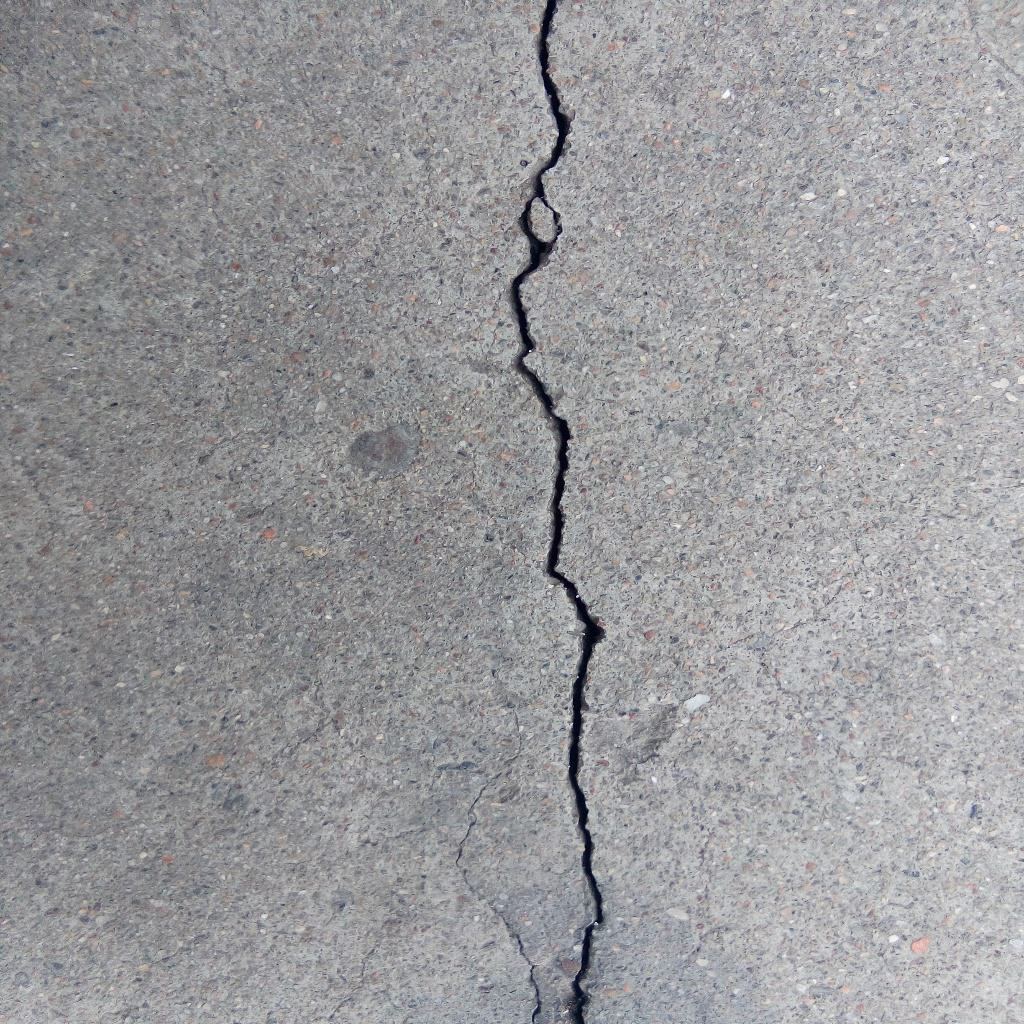Crack: (507, 1, 606, 1024), (455, 772, 542, 1024)
